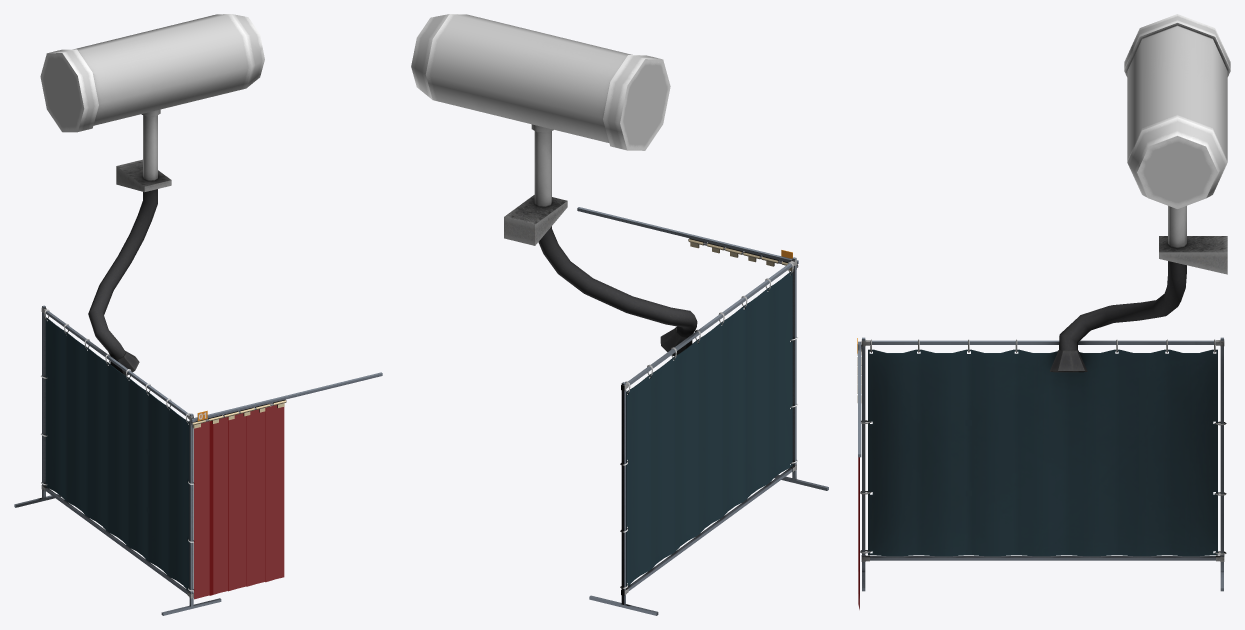
File: Modulo Biombo de soldadura.FBX
3 views of the same model, side by side, from view 1: azimuth 30°, elevation 25°; view 2: azimuth 150°, elevation 25°; view 3: azimuth 270°, elevation 25° (orthographic). The views are drawn at different scales.
Parts seen in each view (by area): view 1: Biombo_Cortina001, Tubo_de_salida_001, Estructura, Cortina_roja_001, Cortina_roja_002, Cortina_roja_004, Cortina_roja_003, Tubo_abstractor_001, Cortina_roja_005, Tubo_conector_001, Soporte_tubo_001, barilla_Frontal; view 2: Biombo_Cortina001, Tubo_de_salida_001, Estructura, Tubo_abstractor_001, Soporte_tubo_001, Tubo_conector_001, barilla_Frontal, Cortinas_sostenedor_001; view 3: Biombo_Cortina001, Tubo_de_salida_001, Estructura, Tubo_abstractor_001, Soporte_tubo_001, Tubo_conector_001, Abstractor_001.
Part boxes in pixels (bbox=[...]): Biombo_Cortina001: bbox=[45, 317, 189, 591]; Tubo_de_salida_001: bbox=[40, 14, 264, 132]; Estructura: bbox=[14, 305, 221, 615]; Cortina_roja_001: bbox=[265, 405, 284, 582]; Cortina_roja_002: bbox=[246, 409, 265, 586]; Cortina_roja_004: bbox=[209, 417, 227, 595]; Cortina_roja_003: bbox=[228, 413, 246, 591]; Tubo_abstractor_001: bbox=[88, 189, 157, 359]; Cortina_roja_005: bbox=[194, 421, 210, 599]; Tubo_conector_001: bbox=[141, 109, 160, 180]; Soporte_tubo_001: bbox=[116, 159, 171, 192]; barilla_Frontal: bbox=[191, 372, 382, 422]; Biombo_Cortina001: bbox=[626, 271, 792, 586]; Tubo_de_salida_001: bbox=[411, 14, 670, 150]; Estructura: bbox=[589, 257, 828, 615]; Tubo_abstractor_001: bbox=[538, 226, 697, 337]; Soporte_tubo_001: bbox=[504, 195, 567, 245]; Tubo_conector_001: bbox=[531, 124, 553, 206]; barilla_Frontal: bbox=[577, 207, 798, 264]; Cortinas_sostenedor_001: bbox=[688, 238, 792, 270]; Biombo_Cortina001: bbox=[868, 349, 1217, 556]; Tubo_de_salida_001: bbox=[1124, 14, 1230, 208]; Estructura: bbox=[862, 337, 1223, 591]; Tubo_abstractor_001: bbox=[1059, 261, 1186, 350]; Soporte_tubo_001: bbox=[1159, 236, 1227, 274]; Tubo_conector_001: bbox=[1168, 206, 1186, 247]; Abstractor_001: bbox=[1050, 350, 1087, 372].
Size of the model in its own units: 2.44 by 4.92 by 2.98.
